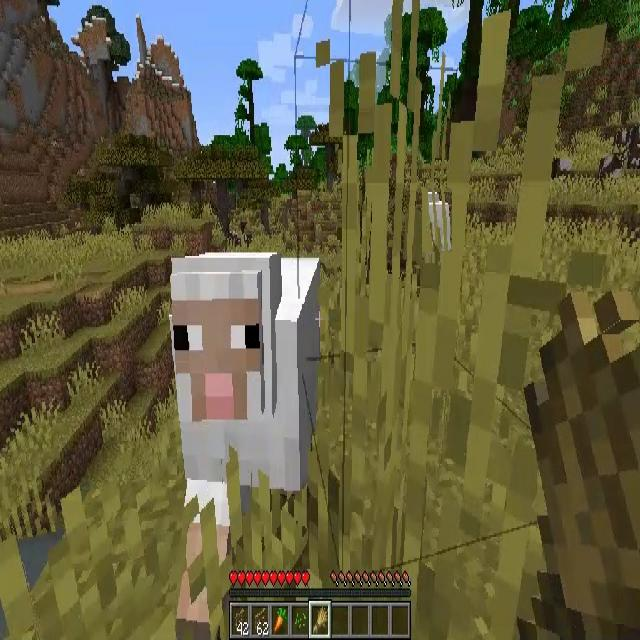cow: (598, 152, 625, 194), (613, 127, 640, 163)
sheep: (169, 254, 321, 640), (422, 188, 452, 252)
